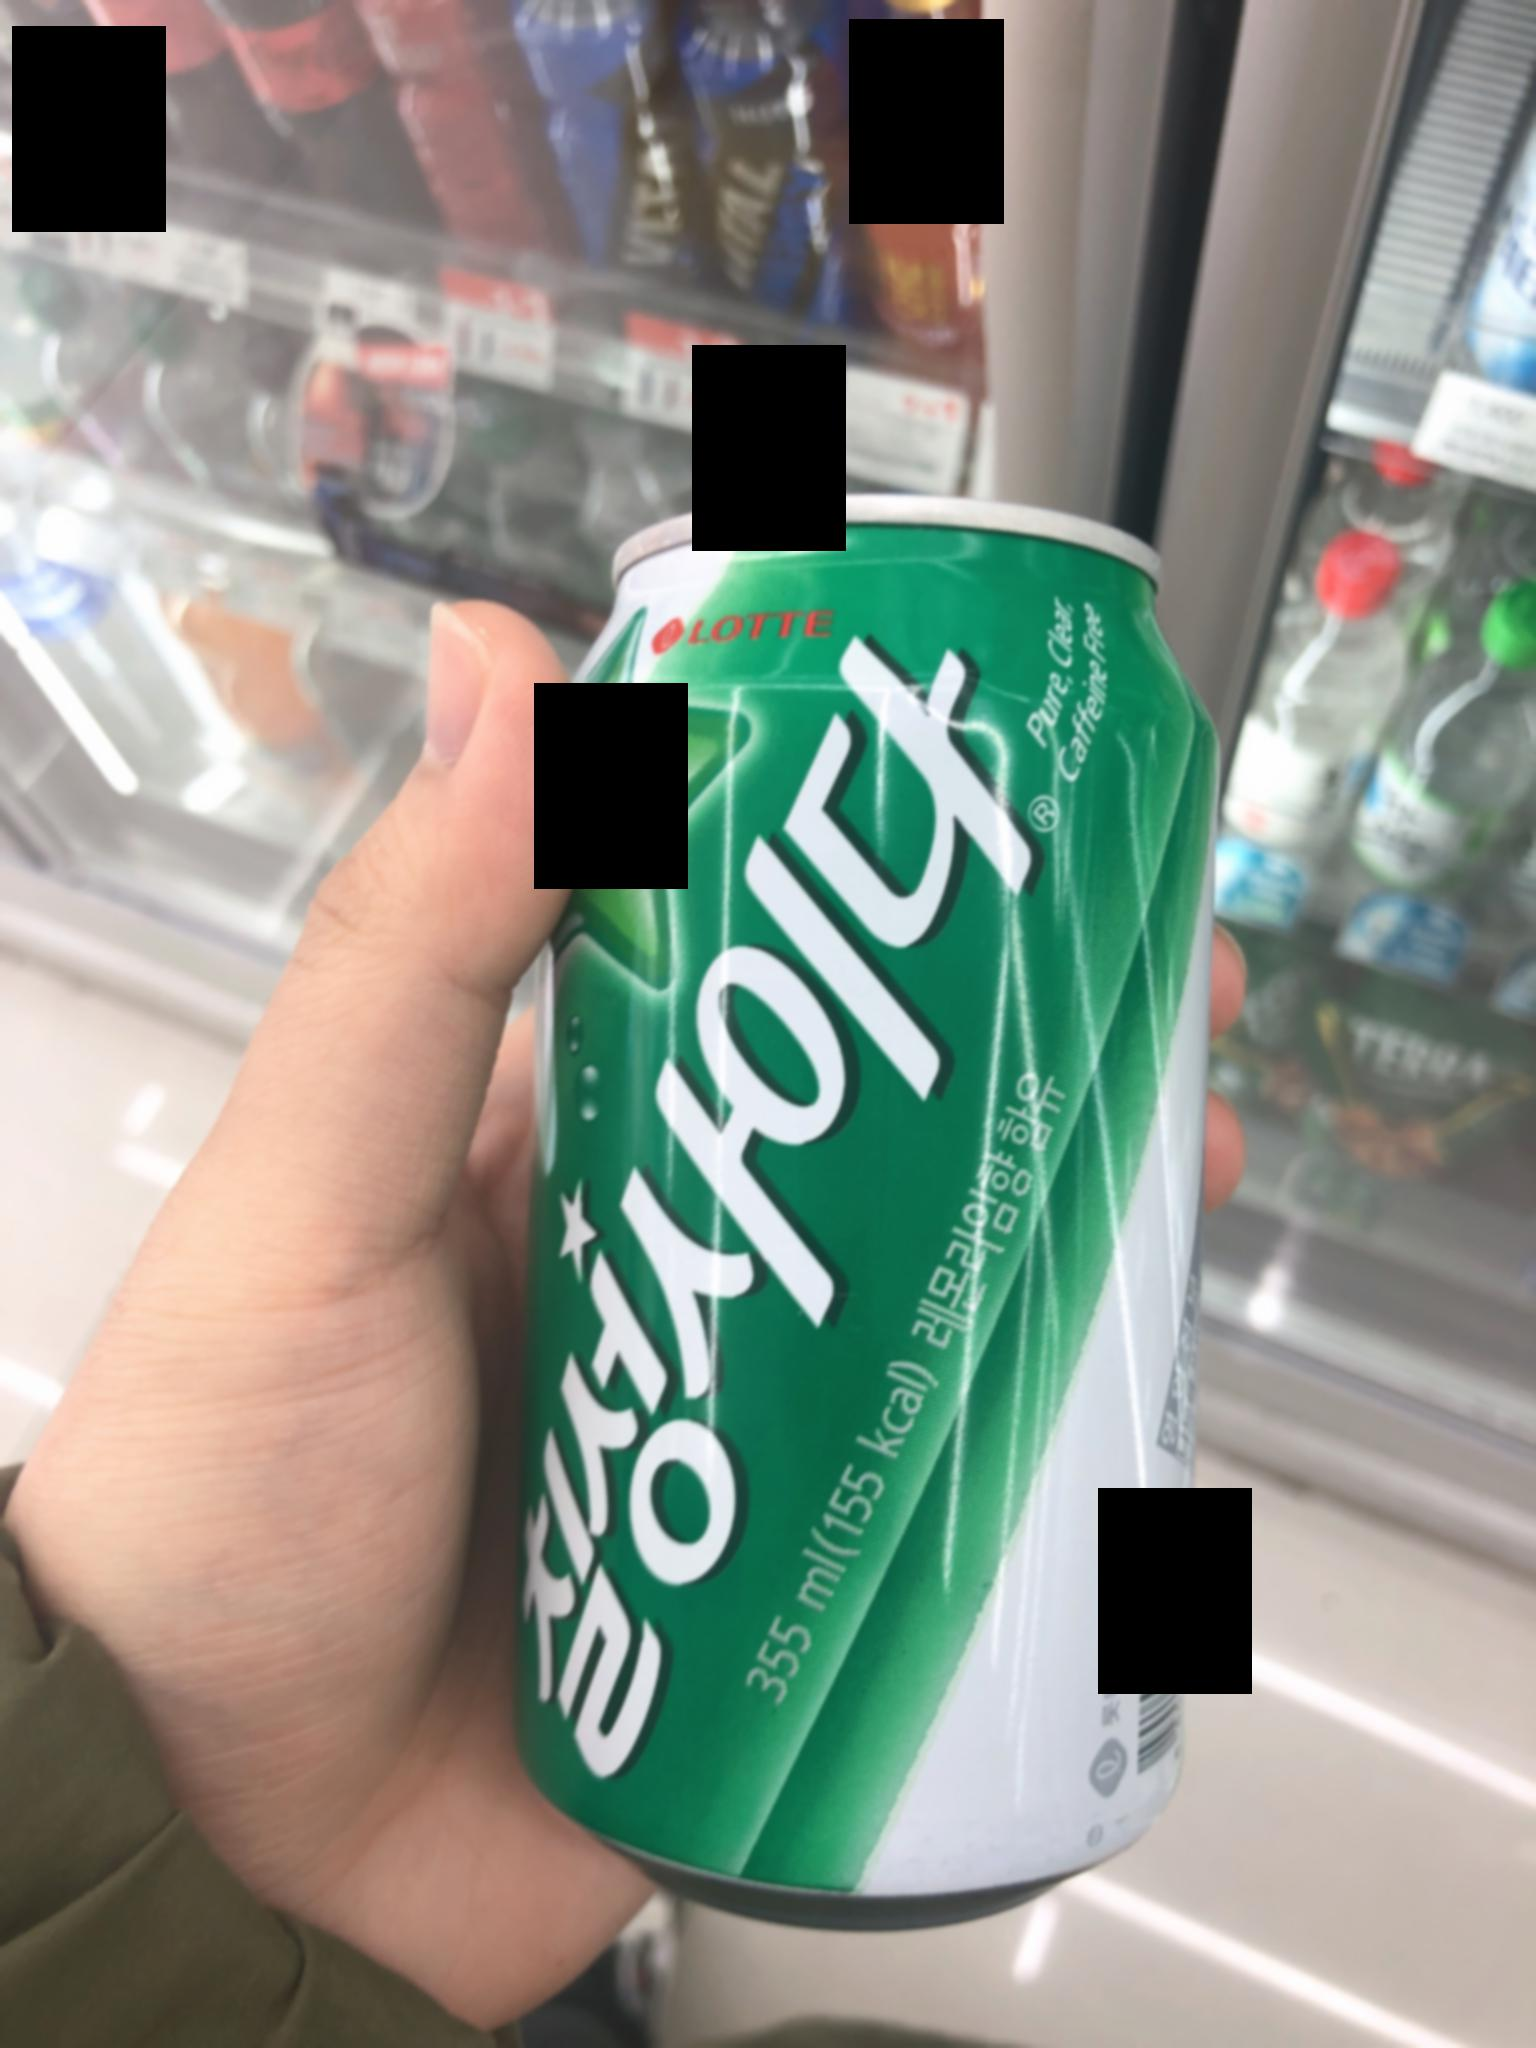chilsungcider: (523, 448, 1241, 1959)
